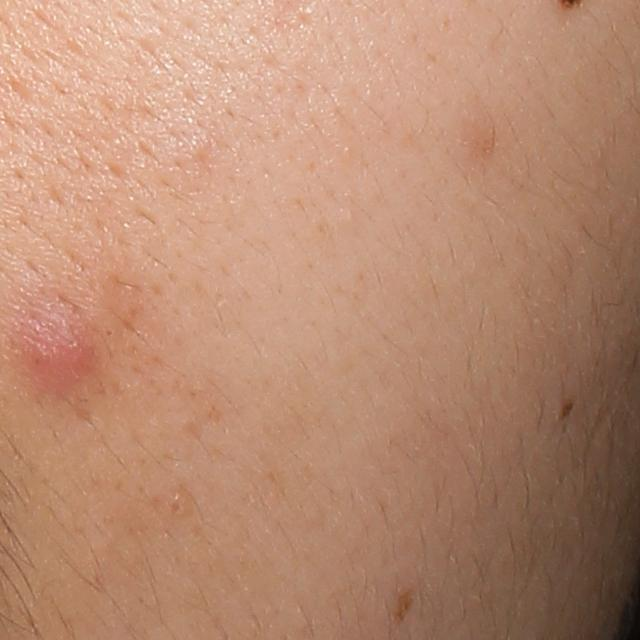comedo: (158, 492, 191, 523)
papule: (16, 309, 106, 393)
